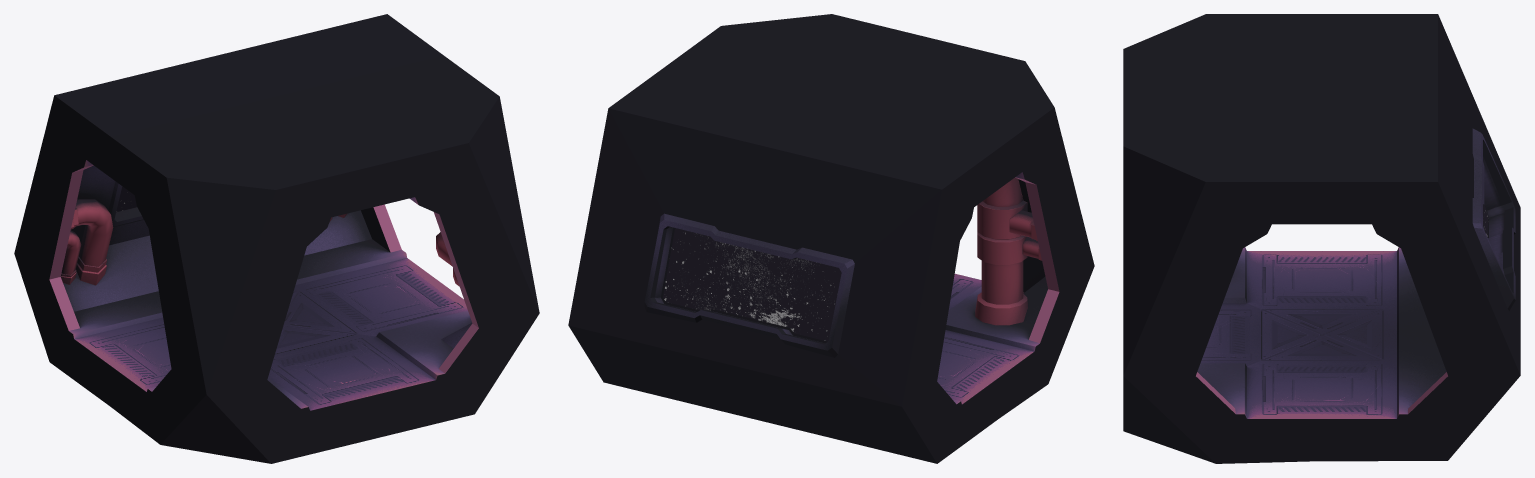
The model's file is mod_Tshape.glb.
3 renders of one model, left to right at view 1: azimuth 30°, elevation 25°; view 2: azimuth 150°, elevation 25°; view 3: azimuth 270°, elevation 25°, orthographic. The views are drawn at different scales.
Parts seen in each view (by area): view 1: Plane.014; view 2: Plane.014; view 3: Plane.014.
Part boxes in pixels (left/top/right/bottom): Plane.014: left=14, top=14, right=539, bottom=463; Plane.014: left=568, top=14, right=1094, bottom=463; Plane.014: left=1123, top=14, right=1520, bottom=463.
Bounding box in the file's own units: 5 × 3.92 × 5.
Materials: 3 (3 with a texture image).
